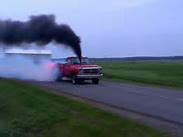smoke: (1, 12, 82, 61)
